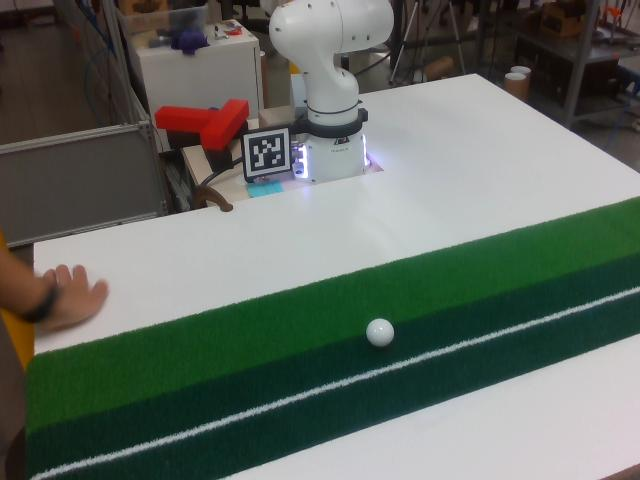golf_balls: (366, 318, 394, 347)
